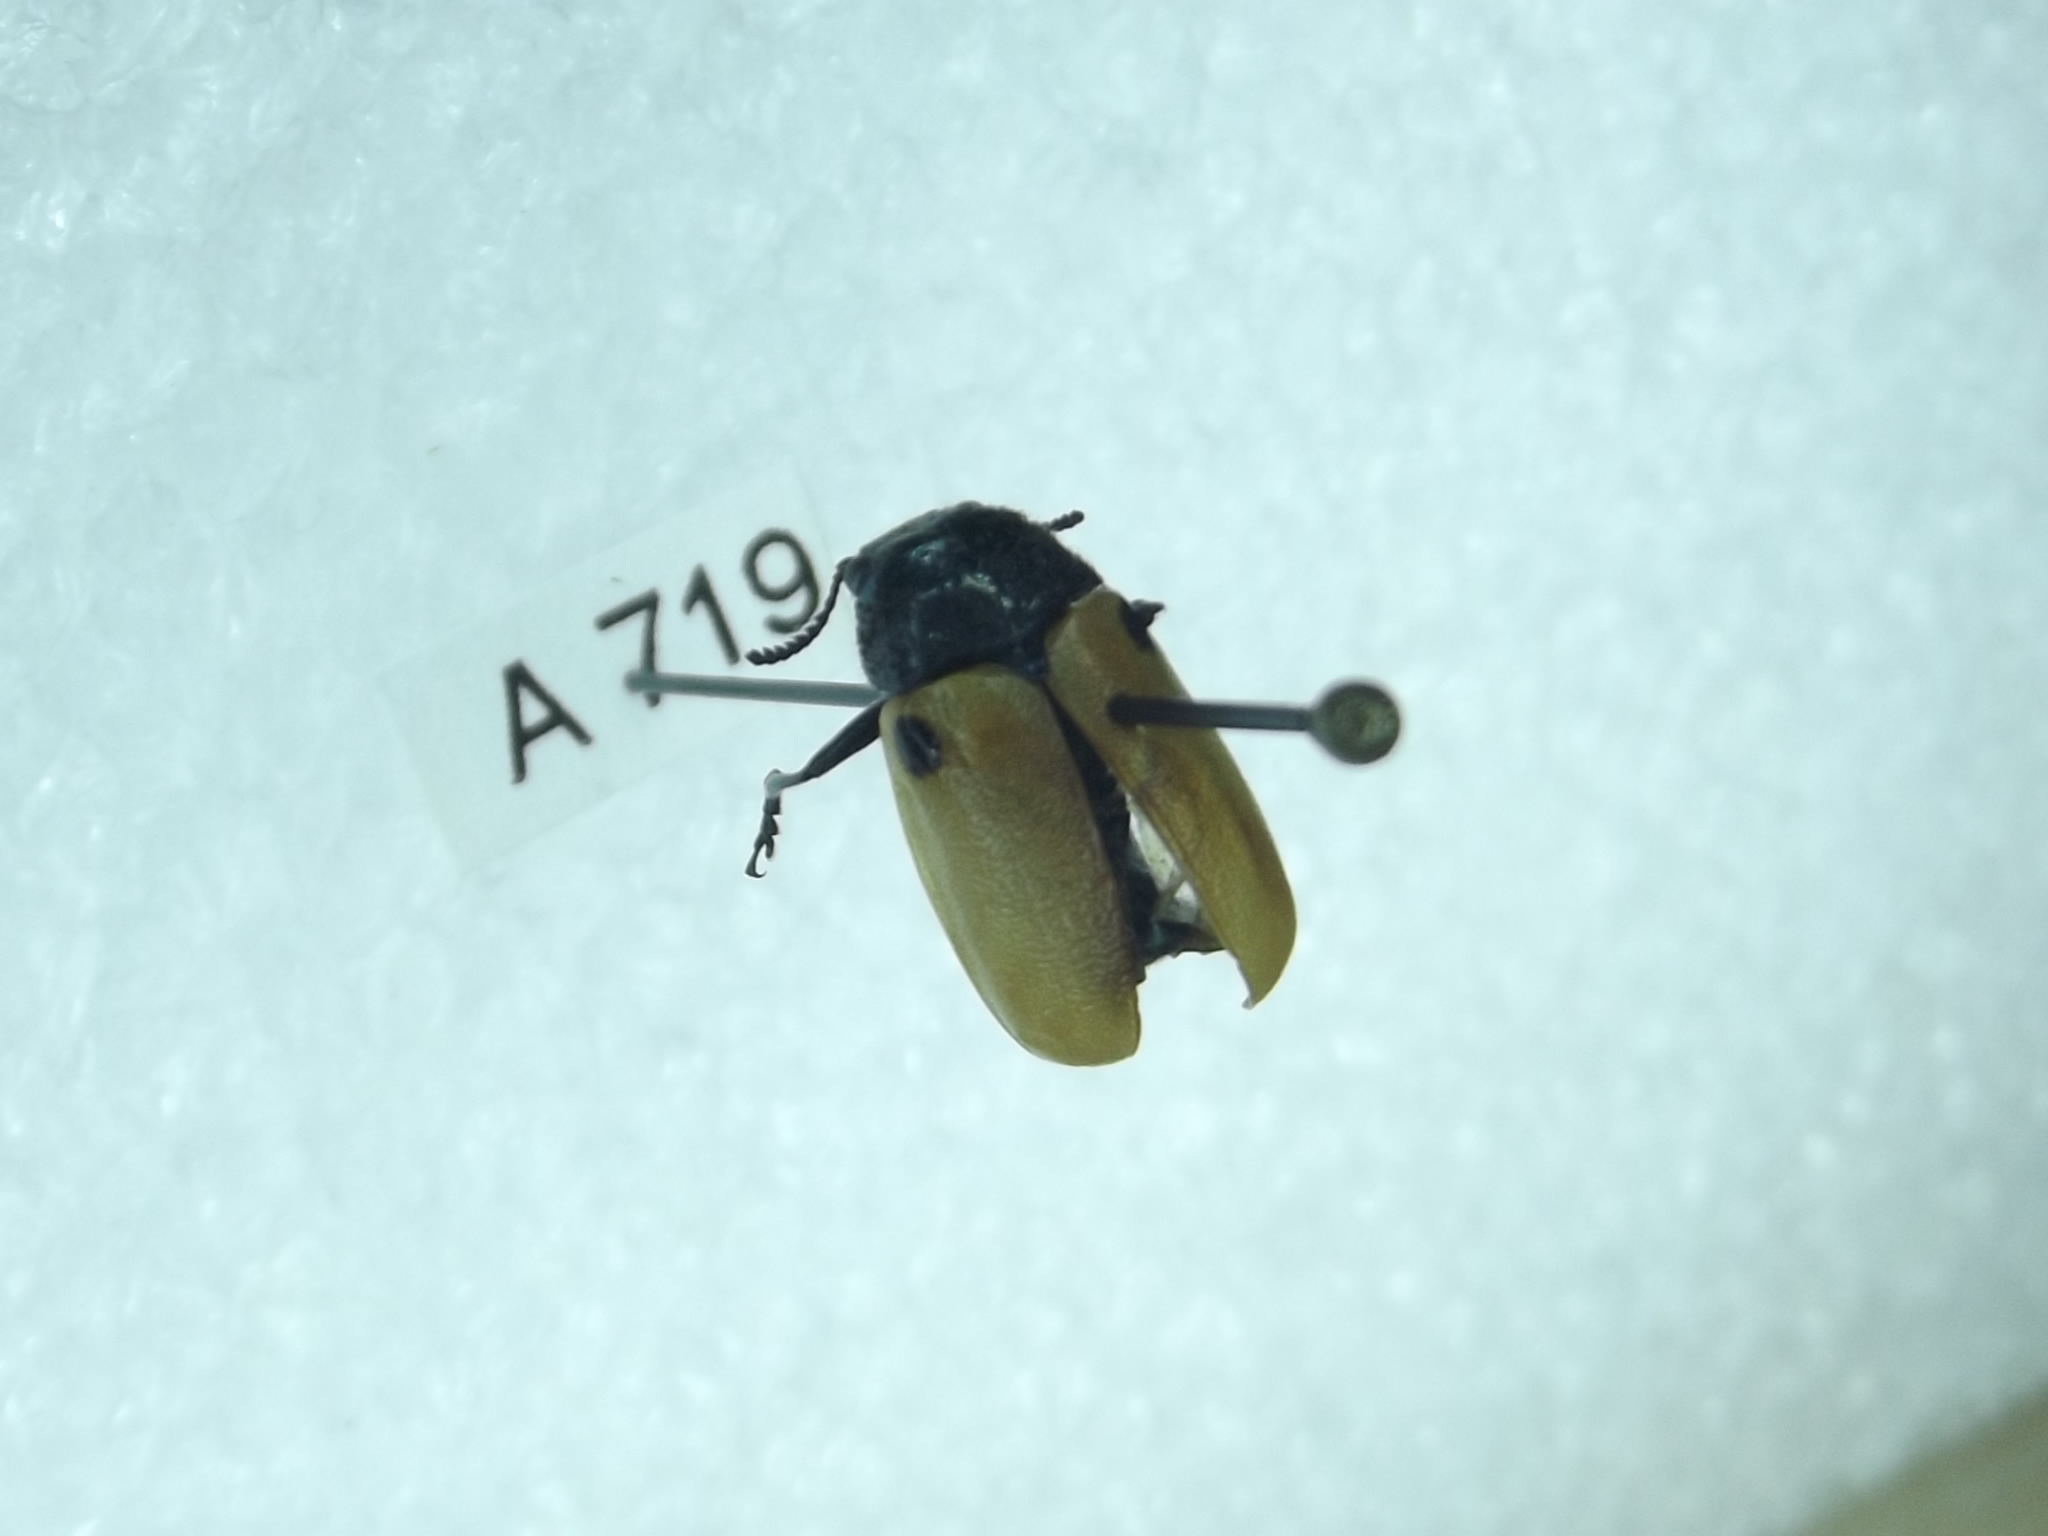Labidostomis_propinqua: (737, 482, 1305, 1100)
